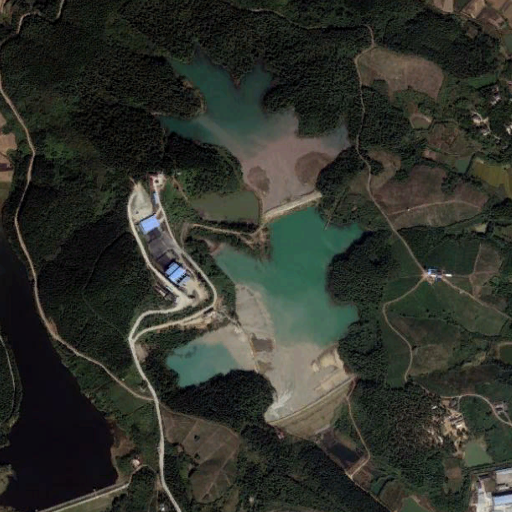tp: (149, 53, 362, 438)
